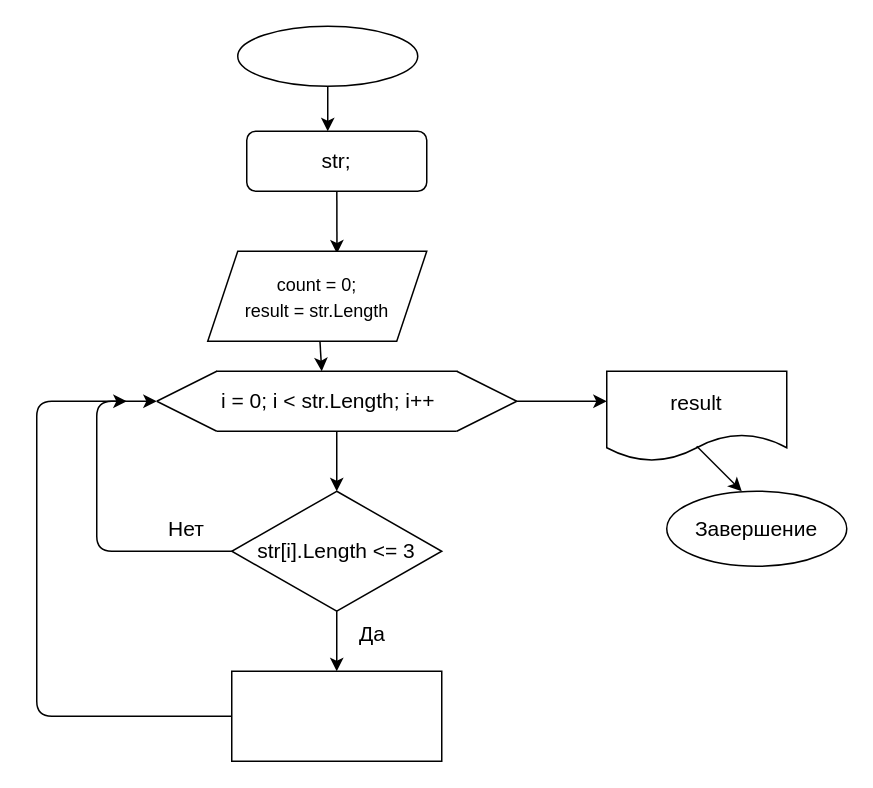
The diagram is 873 pixels wide and 788 high, and some of its shapes have lost their labels. Each missing label, with the box of its shape:
result[count] = str[i]; count ++: (230, 670, 442, 761)
Старт: (236, 25, 418, 86)
